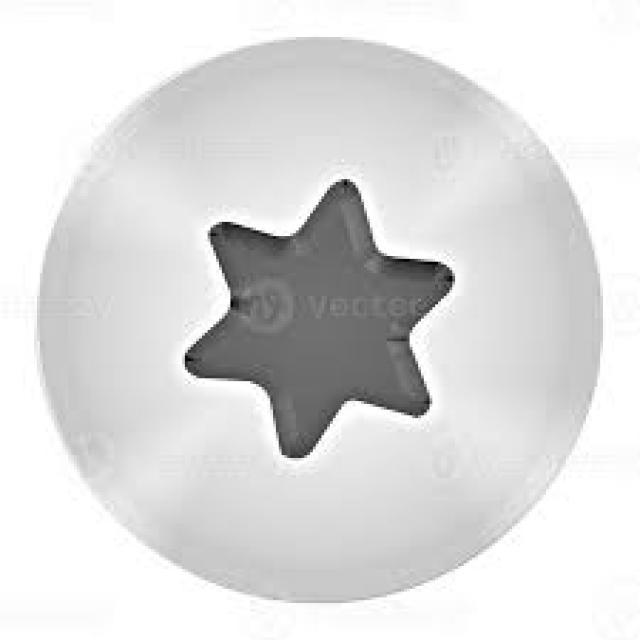torx: (36, 35, 605, 606)
